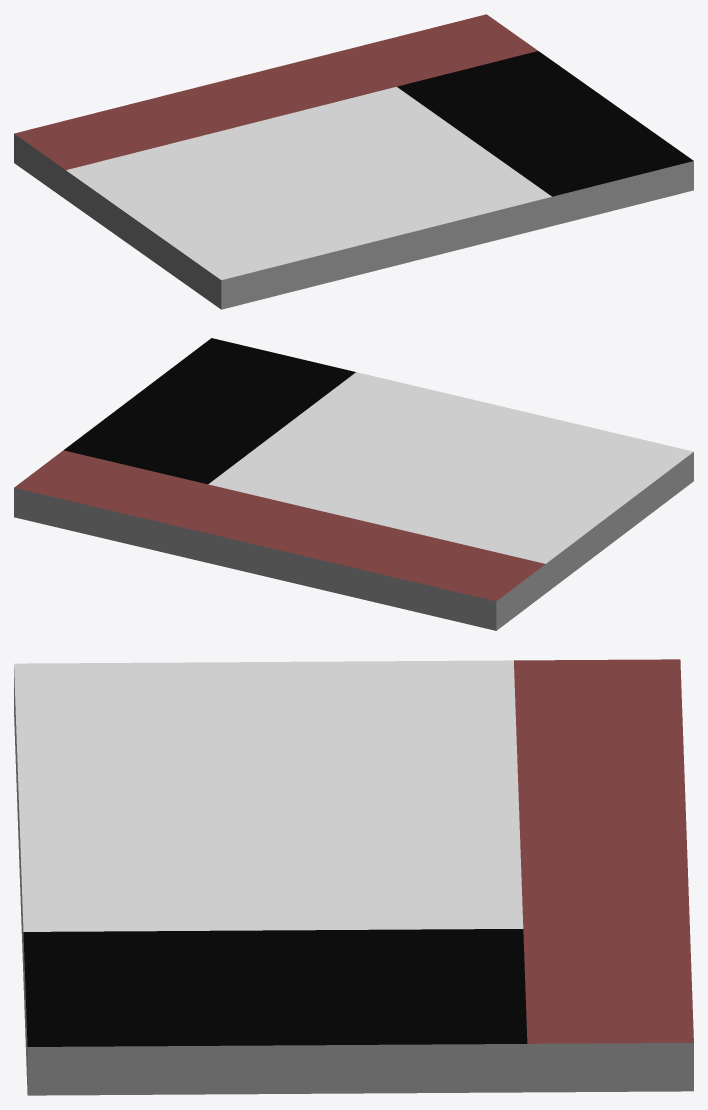
The model's file is sm_keycard.fbx.
3 views of the same model, one above another, from view 1: azimuth 30°, elevation 25°; view 2: azimuth 150°, elevation 25°; view 3: azimuth 270°, elevation 25° (orthographic). The views are drawn at different scales.
Parts seen in each view (by area): view 1: pCube2; view 2: pCube2; view 3: pCube2.
Boxes of the visible parts, x1,y1,x2,y2 form: pCube2: [14, 14, 693, 309]; pCube2: [14, 338, 693, 630]; pCube2: [14, 659, 693, 1095].
Size of the model in its own units: 13.24 by 0.7733 by 9.81.
